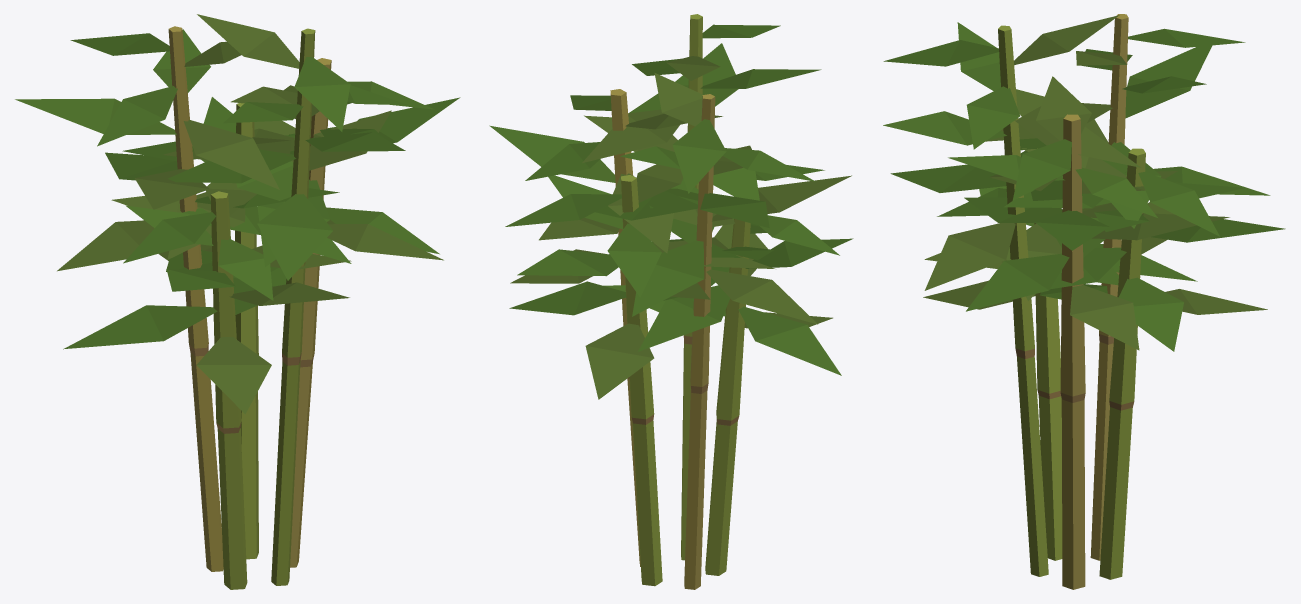
Rendered from E2_bamboo_c.glb.
3 views of the same model, side by side, from view 1: azimuth 30°, elevation 25°; view 2: azimuth 150°, elevation 25°; view 3: azimuth 270°, elevation 25° (orthographic). The views are drawn at different scales.
Visible parts, largest first — view 1: E2_bamboo_c; view 2: E2_bamboo_c; view 3: E2_bamboo_c.
Part boxes in pixels (bbox=[...]): E2_bamboo_c: bbox=[15, 14, 460, 589]; E2_bamboo_c: bbox=[489, 14, 853, 589]; E2_bamboo_c: bbox=[883, 14, 1285, 589].
Bounding box in the file's own units: 2.38 × 3.3 × 2.2.
